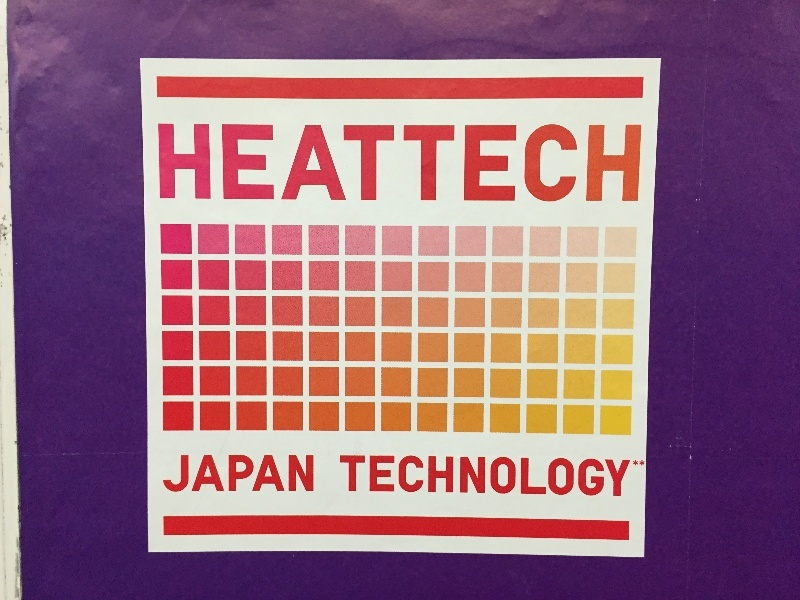text: (161, 124, 176, 202), (177, 124, 192, 202), (193, 124, 208, 202), (209, 124, 224, 202), (225, 124, 240, 202), (241, 124, 256, 202), (257, 124, 272, 202), (273, 124, 288, 202), (289, 124, 304, 202), (305, 124, 320, 202), (321, 124, 336, 202), (337, 124, 352, 202), (353, 124, 368, 202), (369, 124, 384, 202), (385, 124, 400, 202), (401, 124, 416, 202), (417, 124, 432, 202), (433, 124, 448, 202), (449, 124, 464, 202), (465, 124, 480, 202), (481, 124, 496, 202), (497, 124, 512, 202), (513, 124, 528, 202), (529, 124, 544, 202), (545, 124, 560, 202), (561, 124, 576, 202), (577, 124, 592, 202), (593, 124, 608, 202), (609, 124, 624, 202), (625, 124, 640, 202), (353, 455, 368, 497), (369, 455, 384, 497), (385, 455, 400, 497), (401, 455, 416, 497), (417, 455, 432, 497), (433, 455, 448, 497), (449, 455, 464, 497), (465, 455, 480, 497), (481, 455, 496, 497), (497, 455, 512, 497), (513, 455, 528, 497), (529, 455, 544, 497), (545, 455, 560, 497), (561, 455, 576, 497), (577, 455, 592, 497), (593, 455, 608, 497), (609, 455, 624, 497), (625, 455, 640, 497), (177, 455, 192, 492), (193, 455, 208, 492), (209, 455, 224, 492), (225, 455, 240, 492), (241, 455, 256, 492), (257, 455, 272, 492), (273, 455, 288, 492), (289, 455, 304, 492), (339, 455, 352, 497), (162, 455, 176, 492), (305, 455, 314, 492), (641, 455, 647, 497), (159, 124, 160, 202), (641, 124, 642, 202)
